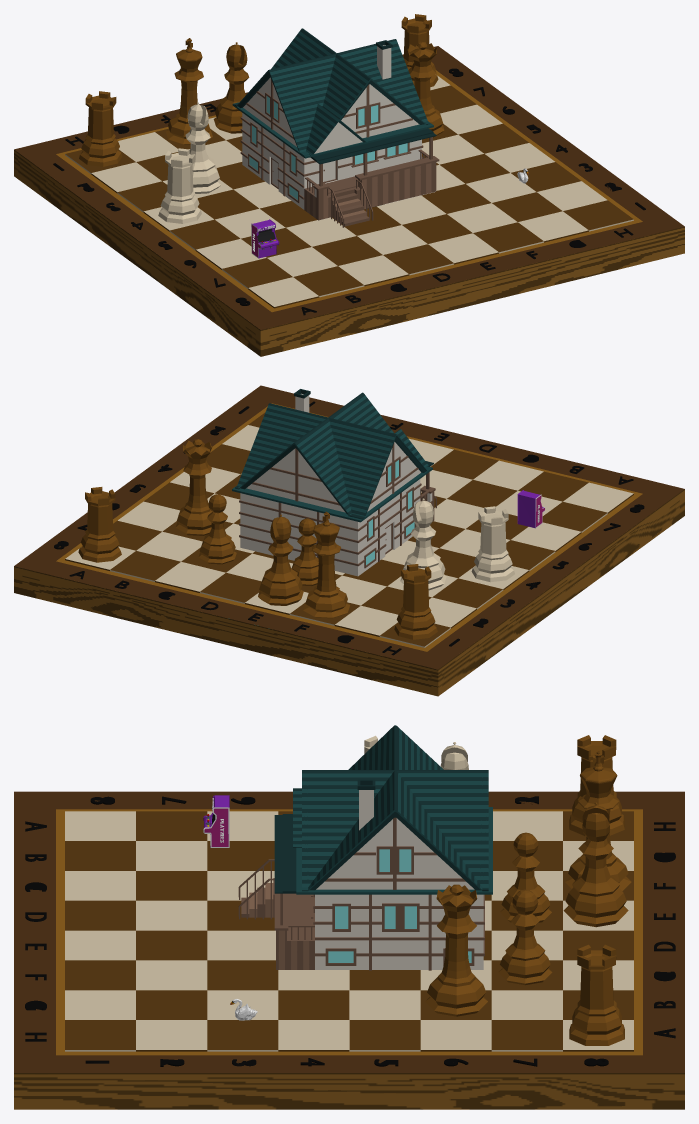
3 views of the same model, one above another, from view 1: azimuth 30°, elevation 25°; view 2: azimuth 150°, elevation 25°; view 3: azimuth 270°, elevation 25° (orthographic). The views are drawn at different scales.
Visible parts, largest first — view 1: Cube.002, Cube.793, OBJRANDOM_ARCADE; view 2: Cube.002, Cube.793, OBJRANDOM_ARCADE; view 3: Cube.002, Cube.793, OBJRANDOM_ARCADE.
Part boxes in pixels (<box>): Cube.002: <box>14,14,684,356</box>; Cube.793: <box>232,28,439,227</box>; OBJRANDOM_ARCADE: <box>251,219,279,258</box>; Cube.002: <box>14,385,684,696</box>; Cube.793: <box>232,389,436,576</box>; OBJRANDOM_ARCADE: <box>517,490,545,528</box>; Cube.002: <box>14,735,684,1109</box>; Cube.793: <box>238,725,492,970</box>; OBJRANDOM_ARCADE: <box>203,795,229,847</box>.
Size of the model in its own units: 3981 by 1462 by 4012.
29 materials, 3 textured.
